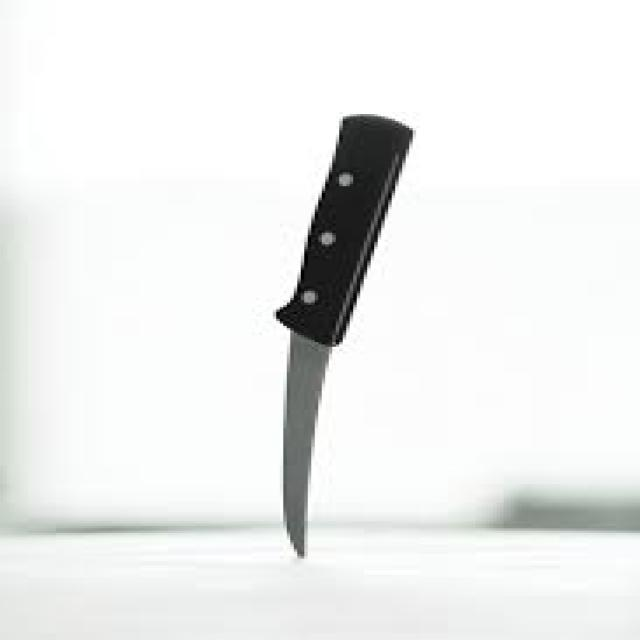Knife: (272, 112, 412, 556)
